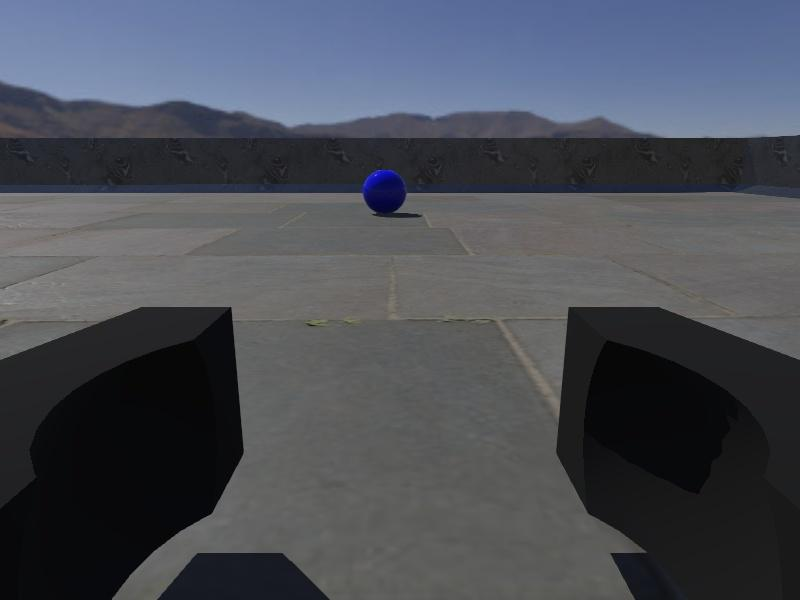blue ball: (362, 168, 408, 215)
